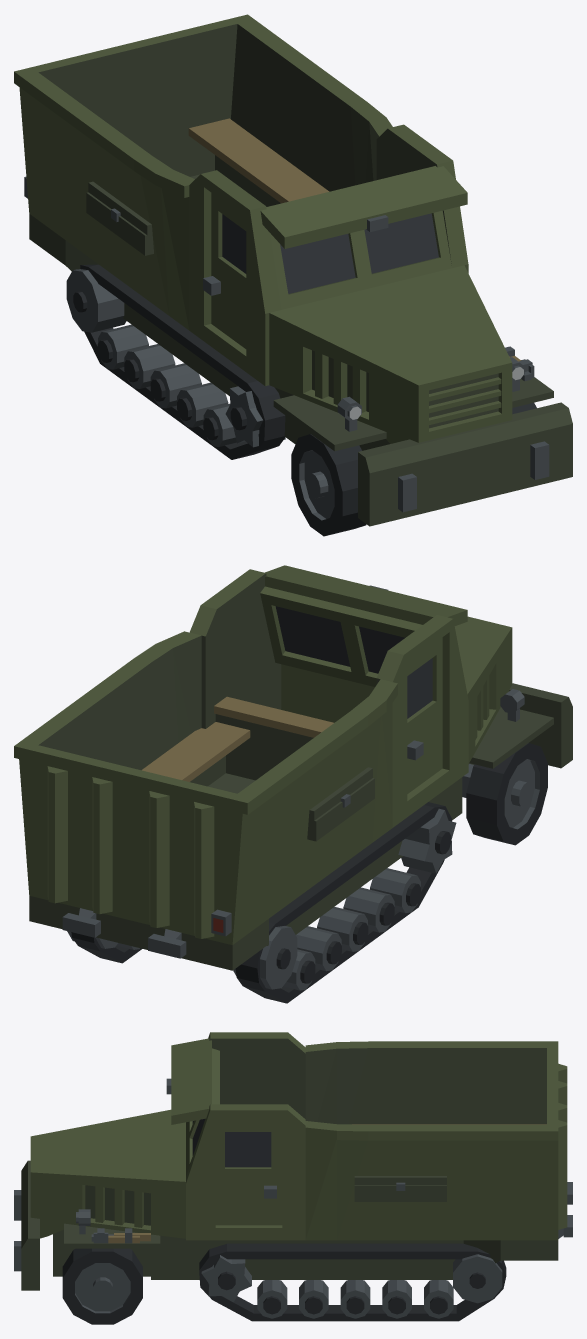
Rendered from half_track.glb.
3 views of the same model, one above another, from view 1: azimuth 30°, elevation 25°; view 2: azimuth 150°, elevation 25°; view 3: azimuth 270°, elevation 25° (orthographic). The views are drawn at different scales.
Visible parts, largest first — view 1: half-track-hull, tyre-fl, idlers-discs, sprockets-discs; view 2: half-track-hull, tyre-fl, sprockets-discs, idlers-discs; view 3: half-track-hull, tyre-fr, idlers-discs, sprockets-discs, pioneer-tools.
Part boxes in pixels (x1,y1,x2,y2): half-track-hull: (14,14,572,526); tyre-fl: (291,434,366,536); idlers-discs: (66,269,126,332); sprockets-discs: (225,386,285,447); half-track-hull: (14,565,572,1003); tyre-fl: (466,743,547,845); sprockets-discs: (398,808,456,873); idlers-discs: (67,926,297,989); half-track-hull: (14,1032,572,1321); tyre-fr: (62,1248,142,1324); idlers-discs: (453,1254,502,1303); sprockets-discs: (201,1255,251,1302); pioneer-tools: (91,1228,150,1243).
Size of the model in its own units: 2.3 by 2.55 by 6.04.
